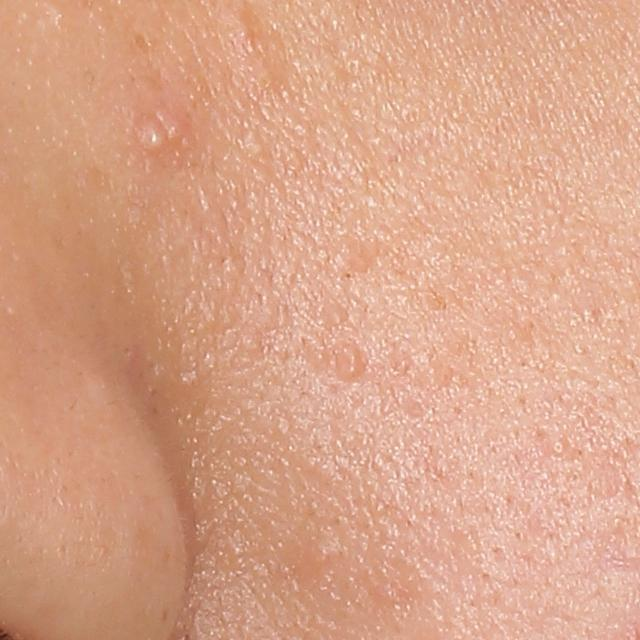comedo: (549, 437, 571, 461)
pustule: (132, 111, 176, 156)
